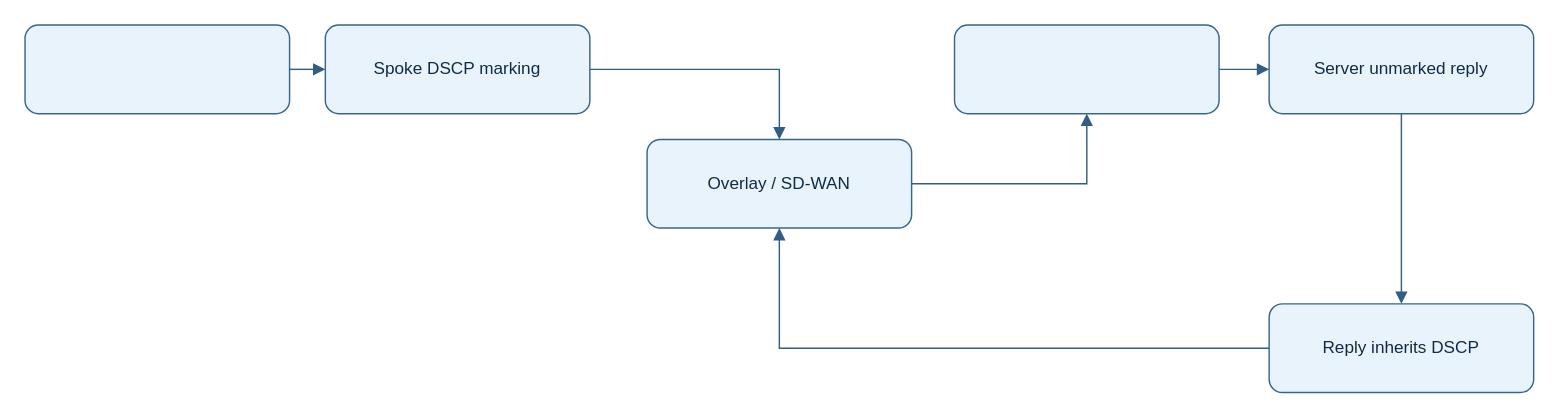
Image size: 1559x418. Some labels were removed from this diagram. Here are the shapes that lost their labels. From the top down, the centre of each, then its label:
At pixel 157 69: "Spoke client".
At pixel 1086 69: "Hub policy diffserv-copy".
